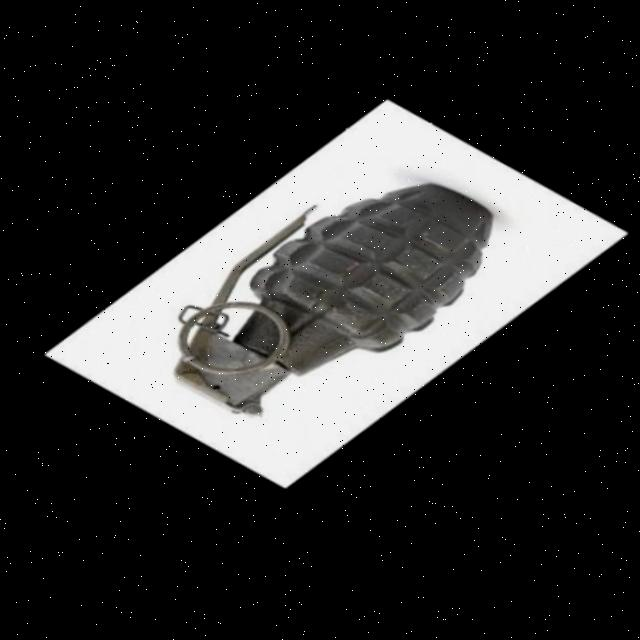grenade: (128, 159, 538, 453)
